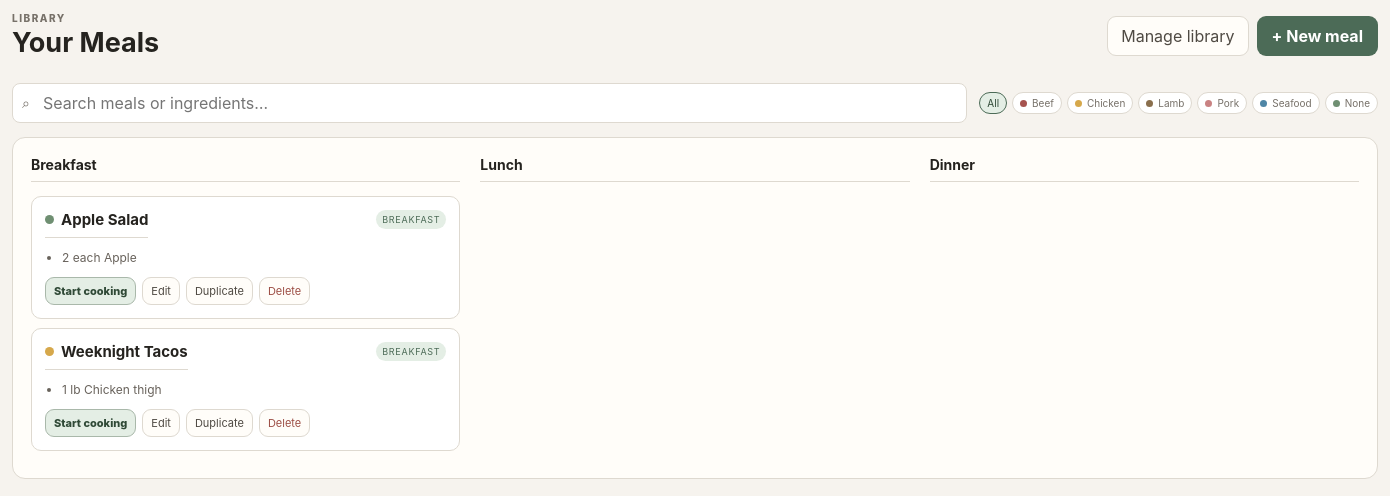
MealsView › filters meals by meal name or ingredient name
Step 1. Type "tacos" into the search field labelled "Search meals" → (490, 103), box [12, 83, 967, 123]
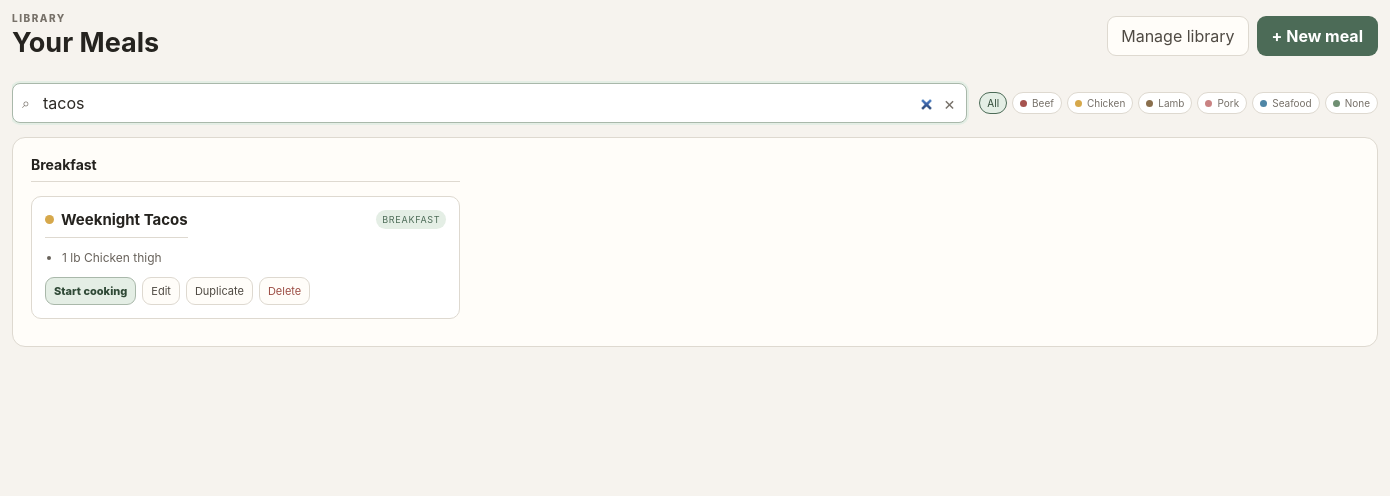
Check: the heading "Apple Salad" is gone
Check: the heading "Lunch" is gone
Check: the heading "Dinner" is gone
Step 2. Replace the text in the search field named "Search meals" with "chicken" → (490, 103), box [12, 83, 967, 123]
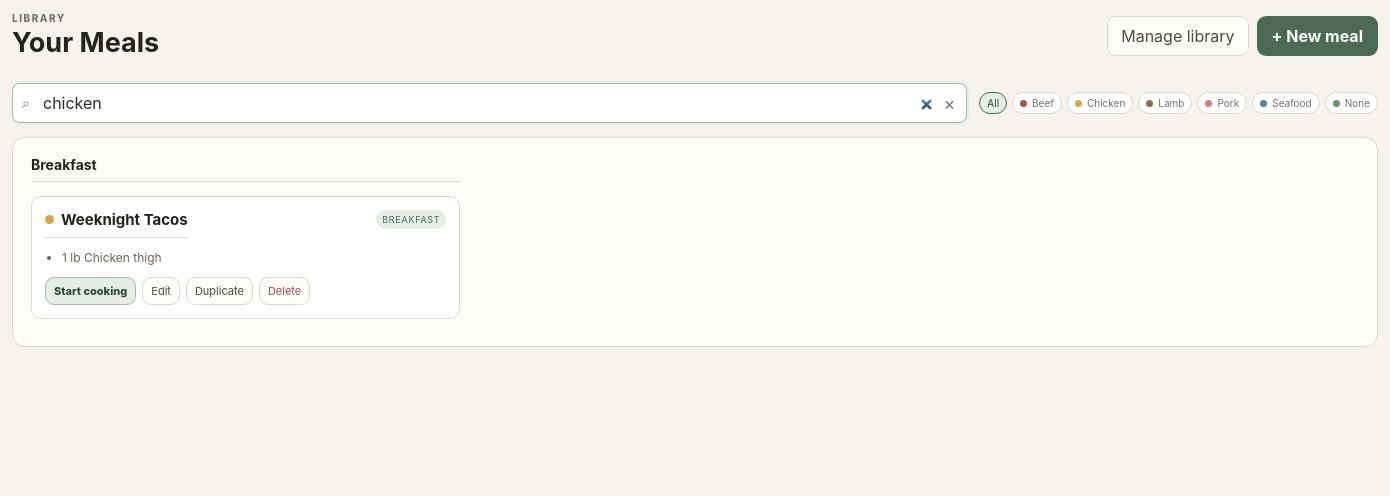
Check: the heading "Weeknight Tacos" is shown, box [45, 210, 188, 238]
Check: the heading "Apple Salad" is not shown
Step 3. Replace the text in the search field named "Search meals" with "pork" → (490, 103), box [12, 83, 967, 123]
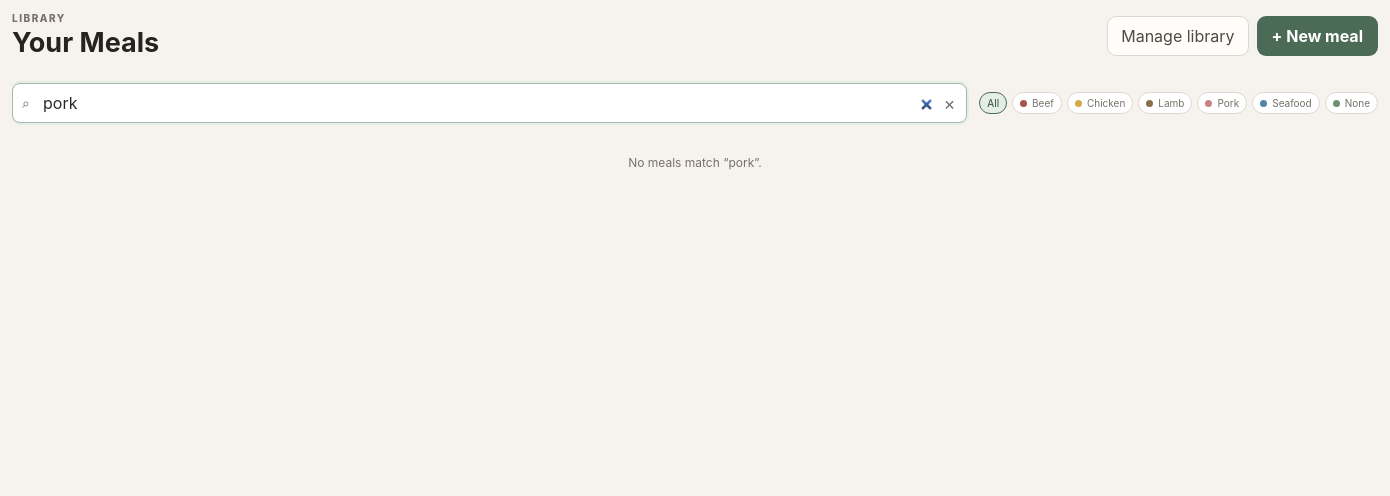
Check: the text "No meals match “pork”." is shown, box [628, 155, 762, 170]
Check: the heading "Breakfast" is gone
Check: the heading "Lunch" is gone
